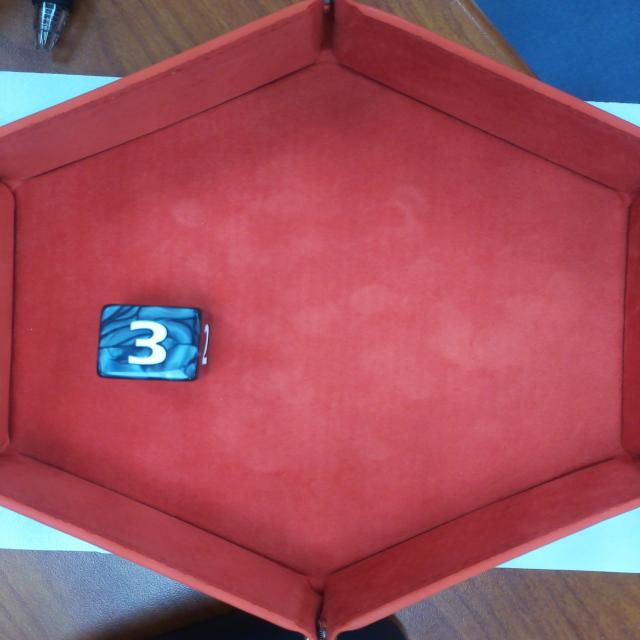dice: (95, 303, 205, 379)
